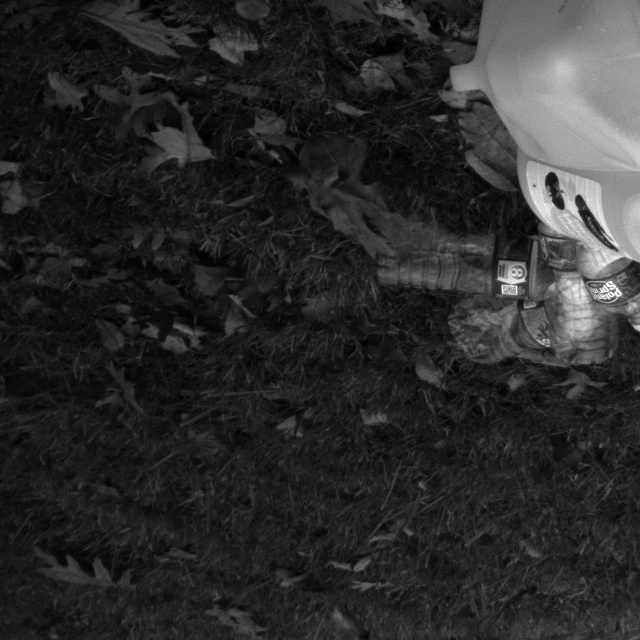bottle: (371, 213, 599, 303), (539, 212, 620, 373), (450, 295, 560, 368)
can: (452, 0, 640, 171), (517, 107, 640, 280)
